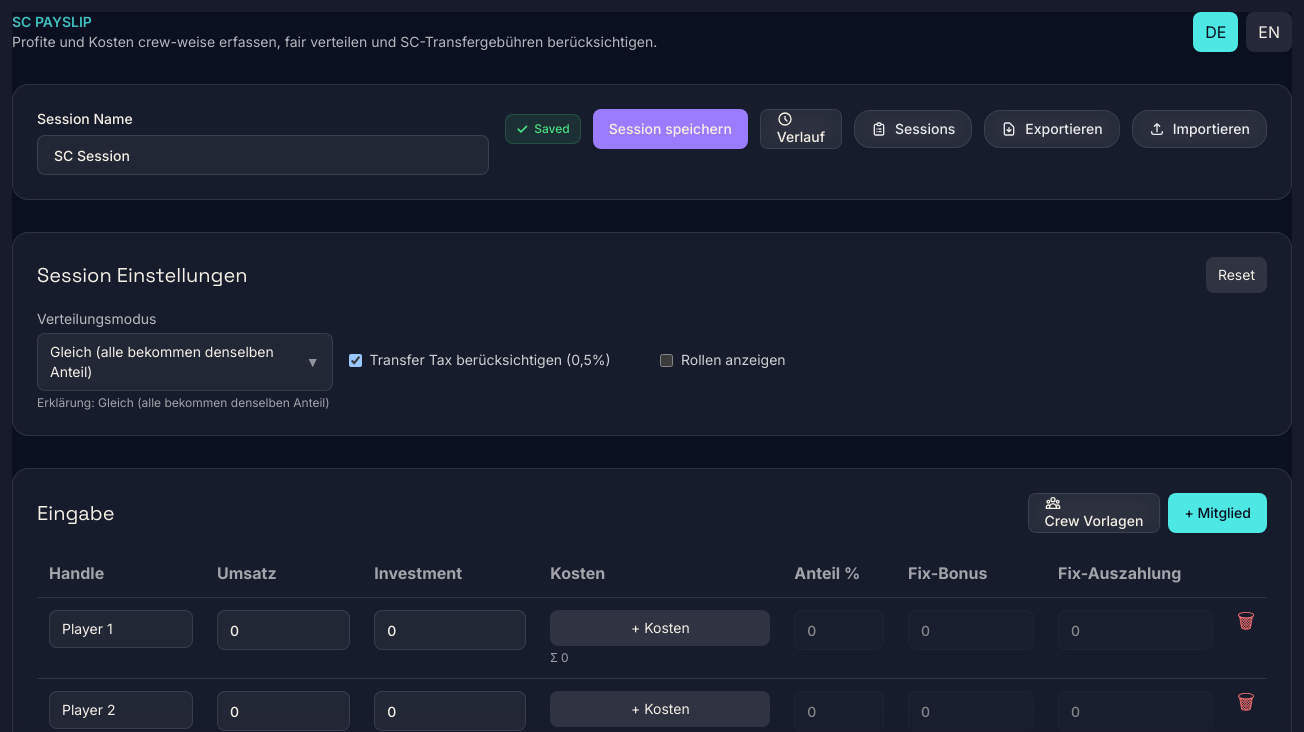
Test: SessionWizard - Language Switching › should switch from German to English when EN button is clicked
Check: the heading "Eingabe" is shown, box [37,499,114,527]
Click the button with aria-label "Switch to English" at [1269, 32], box [1246,12,1292,52]
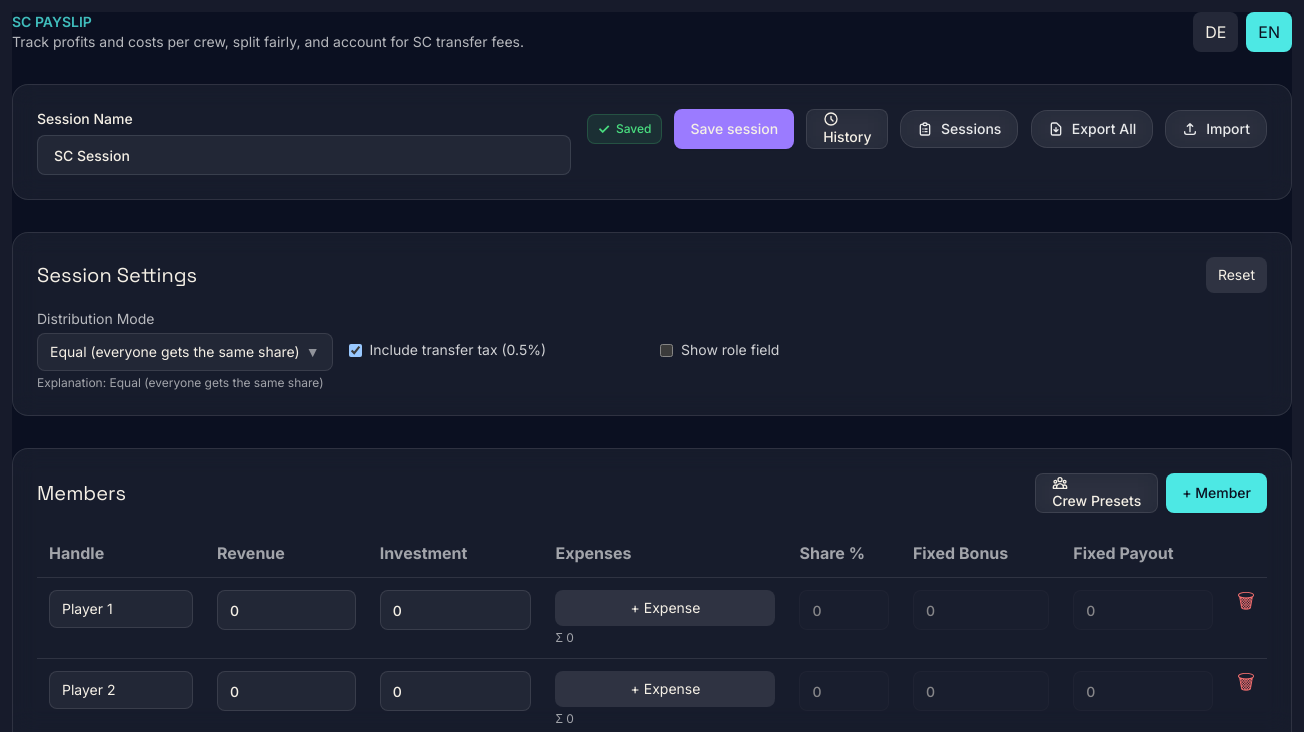
Check: the heading "Members" is shown, box [37,479,126,507]
Check: the heading "Eingabe" is gone
